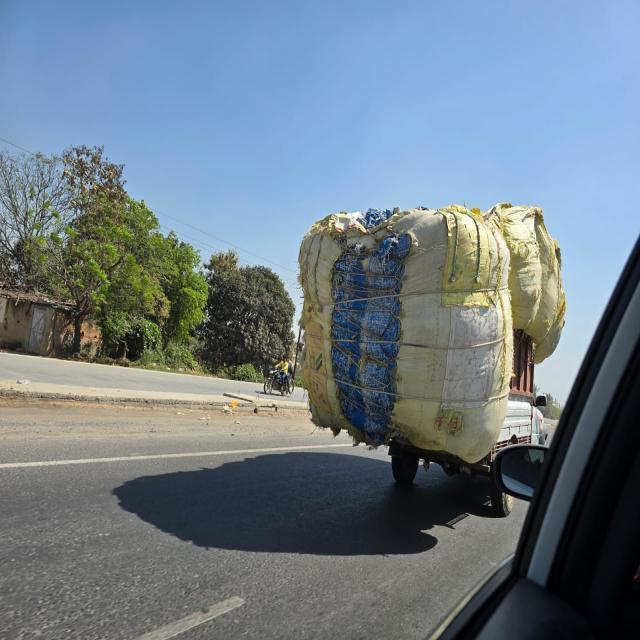covered: (308, 200, 530, 459)
